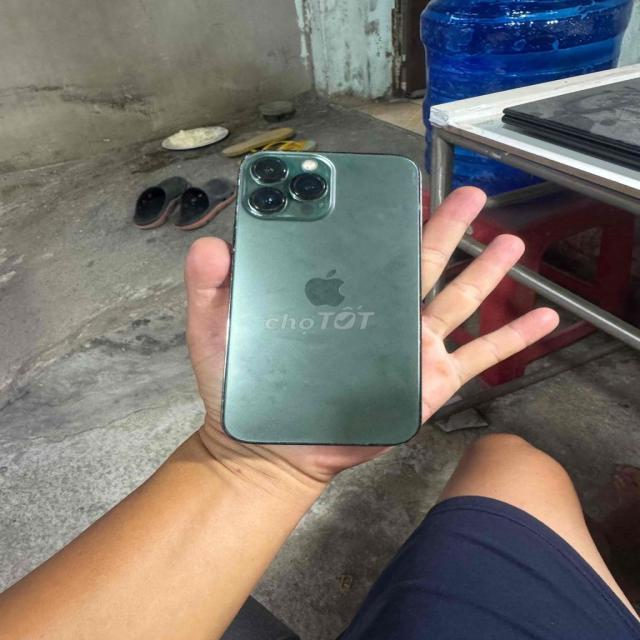gen_12_13: (217, 144, 427, 449)
